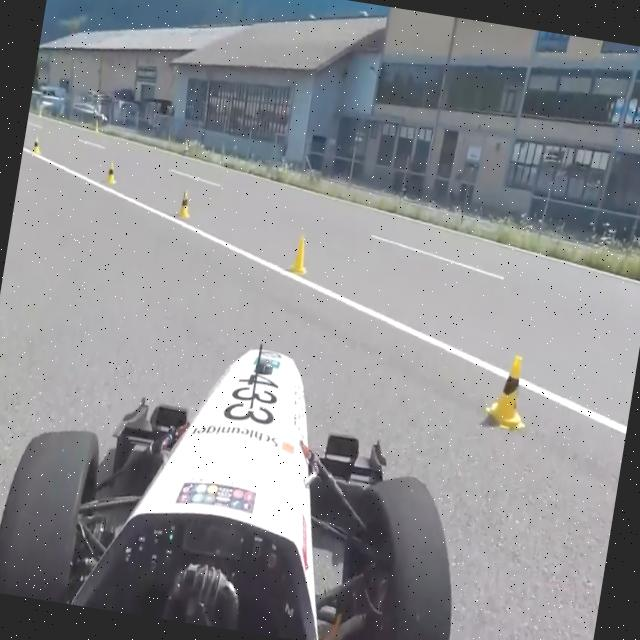yellow_cone: (486, 349, 532, 433), (285, 230, 311, 278), (175, 190, 193, 222), (103, 159, 118, 187), (30, 136, 42, 159)
